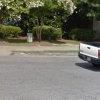Tree: (18, 0, 80, 32)
